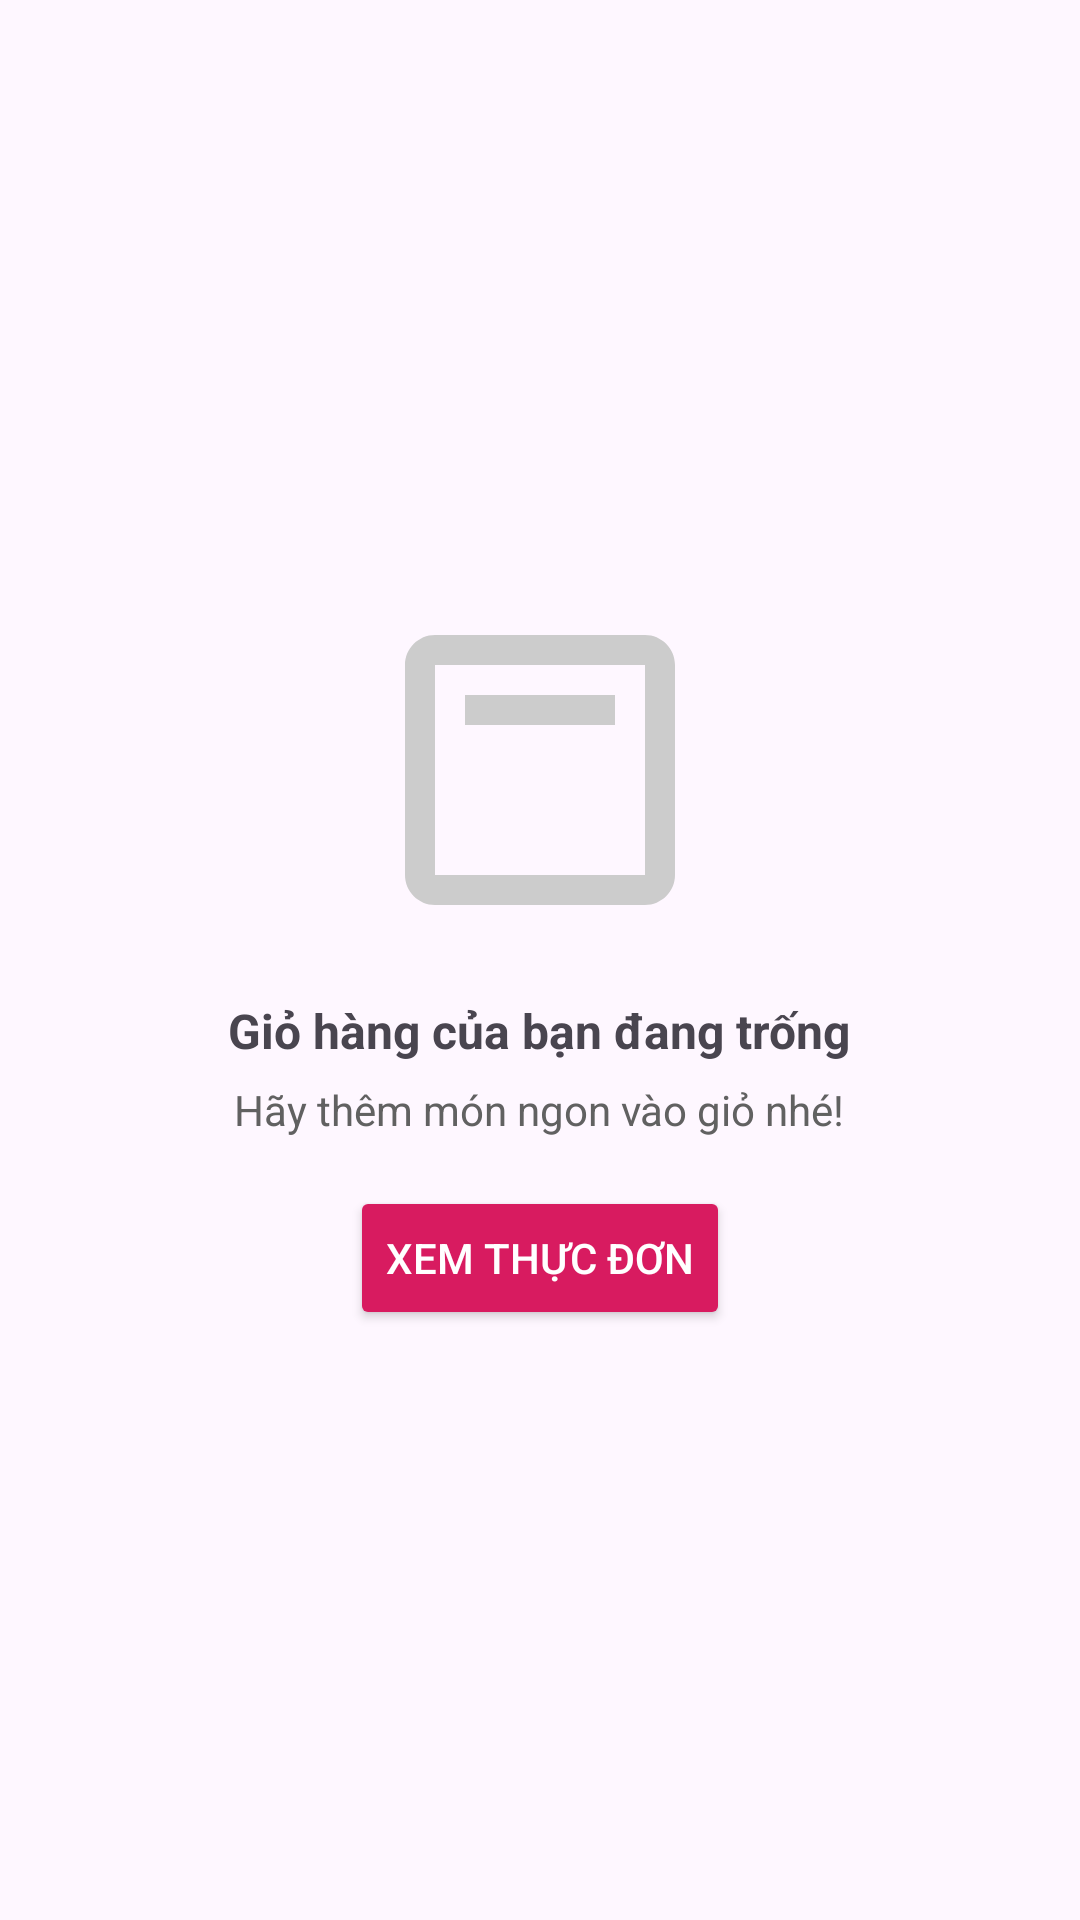

Icons on this 1080×1920 Android screen, each with its box as (x1,y1,x2,y2):
empty box: (405,635,675,905)
